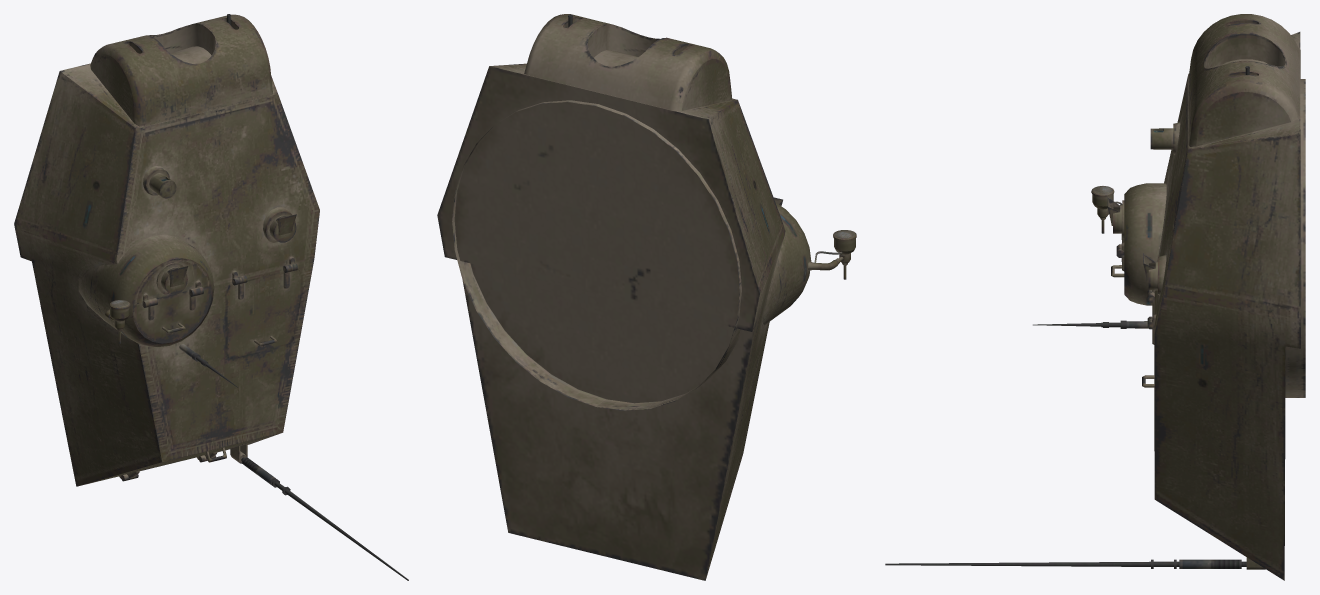
The model's file is Turret_02.glb.
3 views of the same model, side by side, from view 1: azimuth 30°, elevation 25°; view 2: azimuth 150°, elevation 25°; view 3: azimuth 270°, elevation 25° (orthographic). The views are drawn at different scales.
Parts seen in each view (by area): view 1: set_0_group_0; view 2: set_0_group_0; view 3: set_0_group_0.
Part boxes in pixels (x1,y1,x2,y2): set_0_group_0: [14, 14, 408, 580]; set_0_group_0: [437, 14, 856, 580]; set_0_group_0: [885, 14, 1305, 580].
Size of the model in its own units: 2.04 by 3.11 by 2.39.
Materials: 1 (1 with a texture image).
